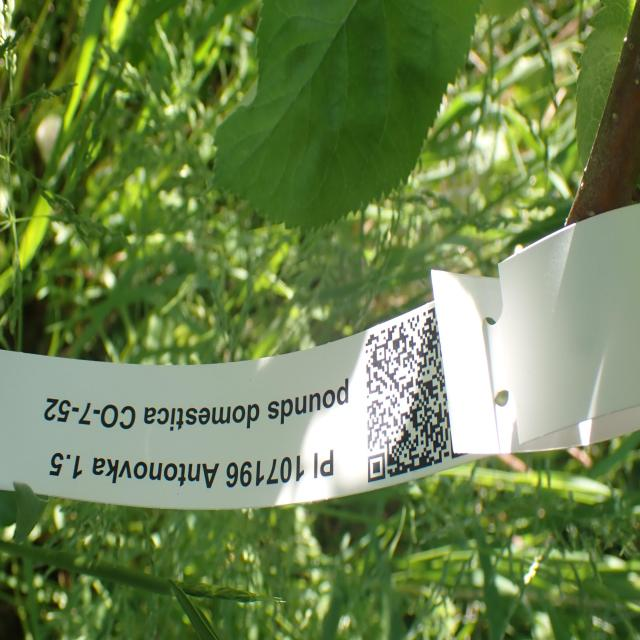scab: (255, 0, 456, 219)
